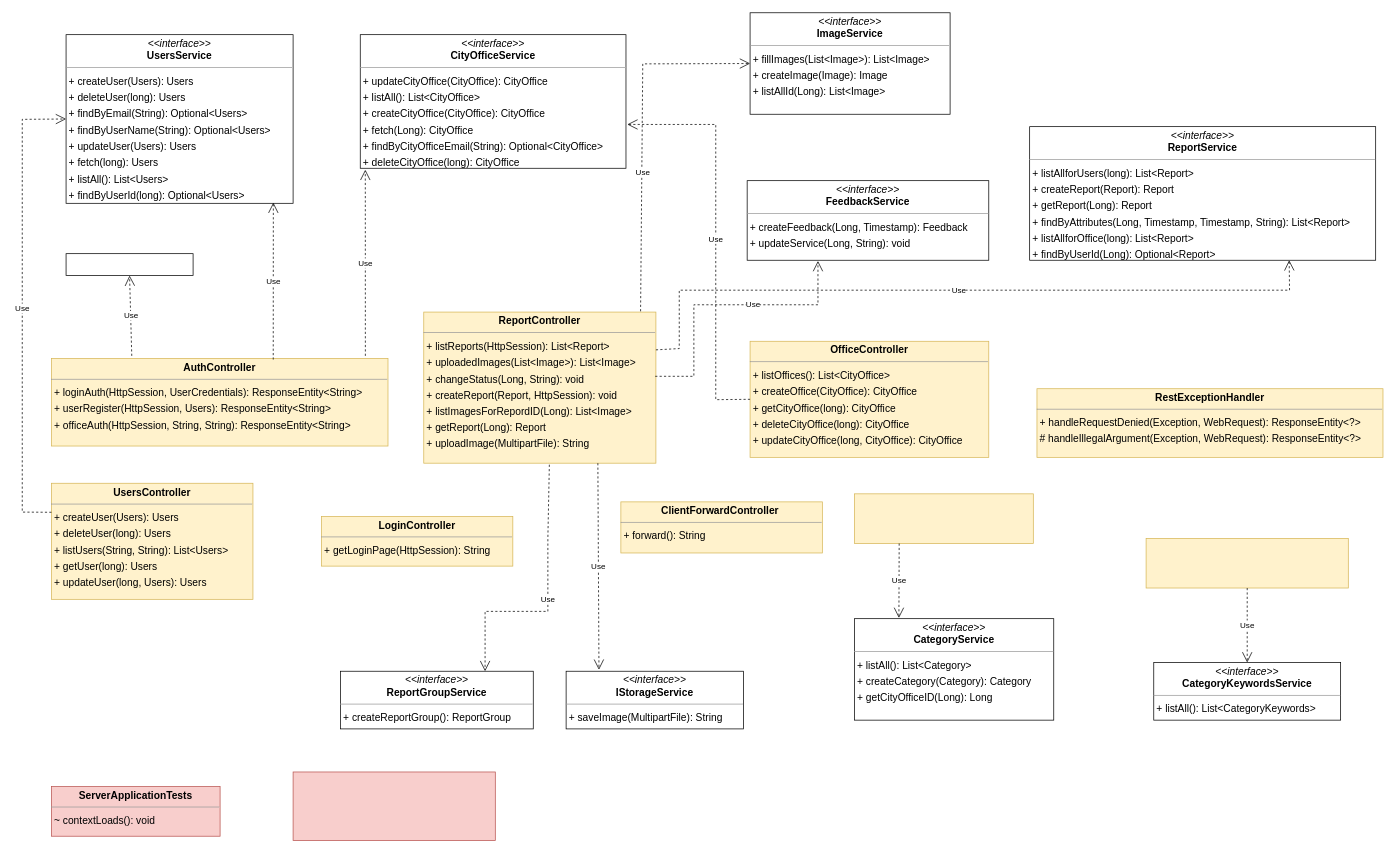
Some shapes in this 1396 by 853 pixel diagram are drawn without their labels. The box of each missing label's shape, as (x1, y1, x2, y2) in pixels:
CategoryController + listCategories(): List<Category>: (854, 493, 1033, 543)
CategoryKeywordsController keywords: List<CategoryKeywords>: (1145, 538, 1348, 588)
ServerApplication + corsConfigurer(): WebMvcConfigurer + main(String[]): void: (292, 771, 495, 841)
UserCredentials: (65, 253, 193, 276)
